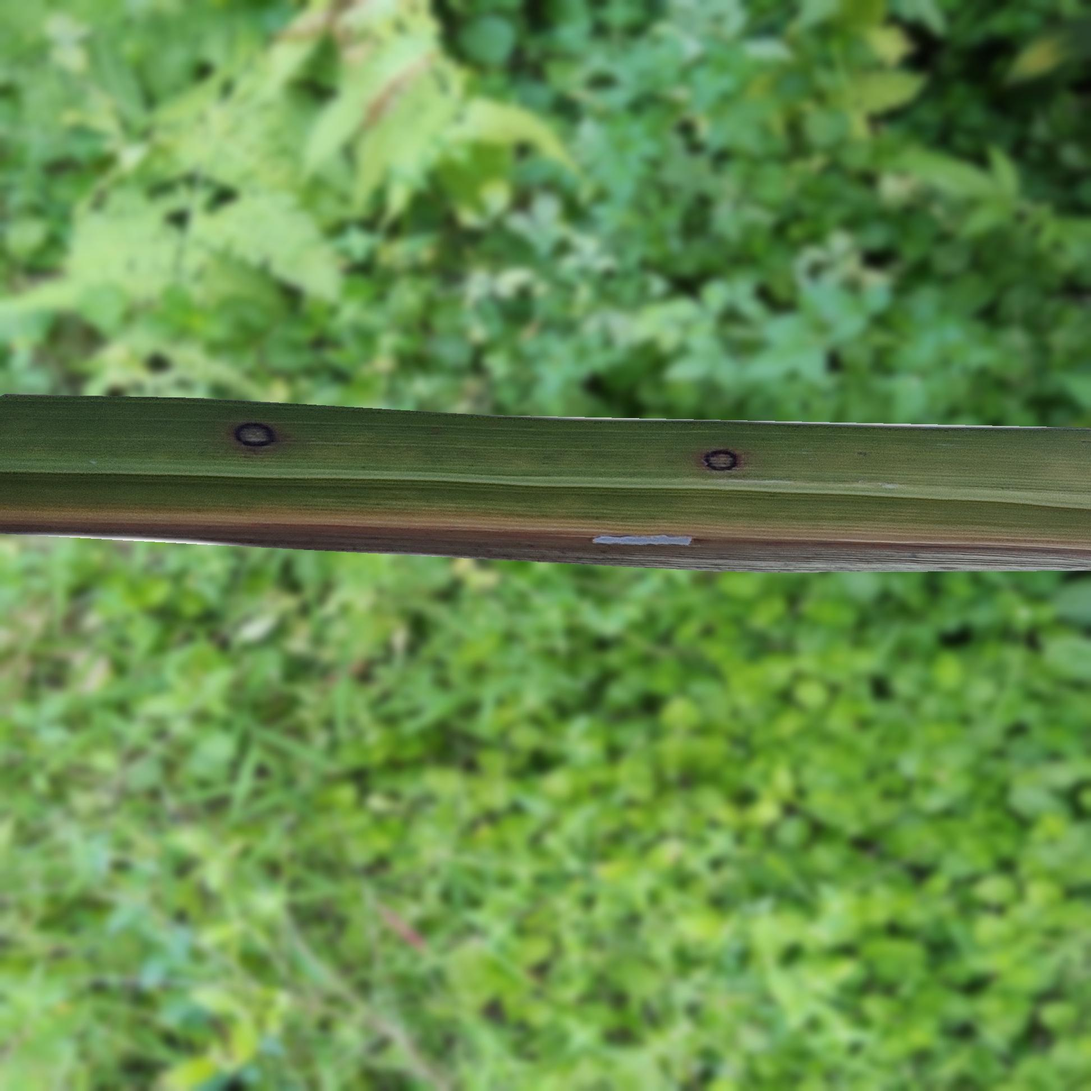LEAF BLAST: (235, 422, 277, 447), (703, 449, 739, 471)
